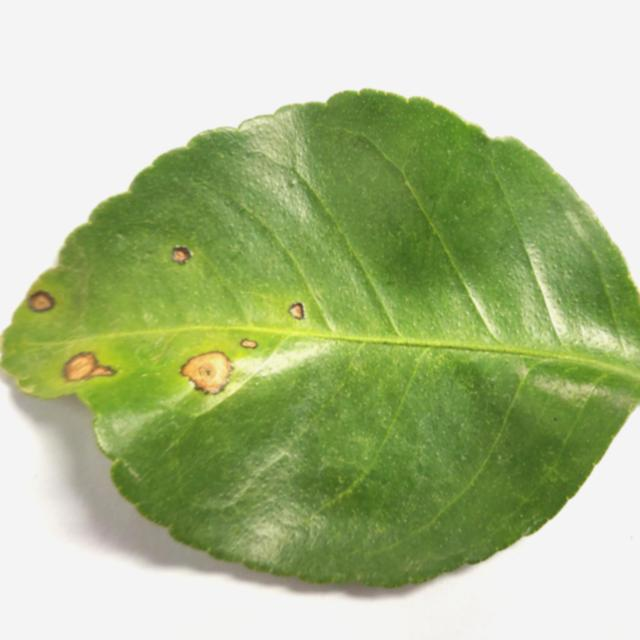antracnose: (2, 91, 640, 587), (181, 351, 232, 394), (63, 352, 114, 381), (28, 290, 55, 312), (172, 246, 191, 264), (289, 302, 305, 320), (241, 339, 257, 349)
